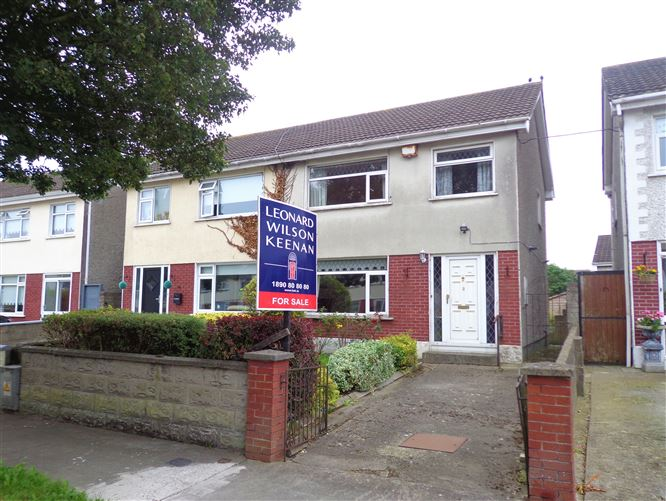property sign: (255, 195, 335, 319)
